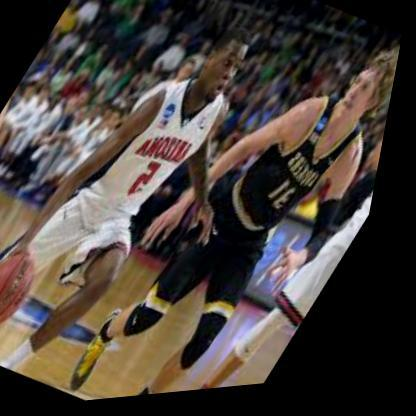basketball: (0, 243, 63, 338)
